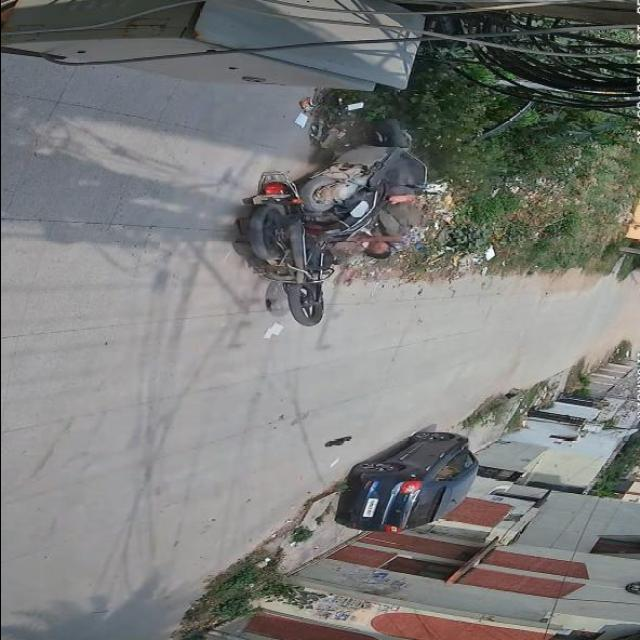accident: (292, 109, 460, 230), (235, 180, 319, 328)
